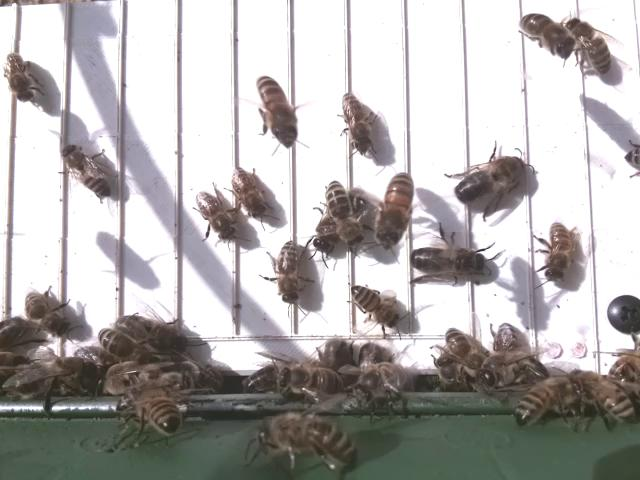Drone: (449, 152, 530, 208), (111, 308, 192, 355), (406, 239, 488, 284)
Worker: (371, 170, 417, 251), (253, 73, 300, 150), (58, 140, 114, 202), (564, 14, 615, 81), (518, 8, 574, 64), (325, 176, 366, 250), (347, 281, 404, 328), (193, 188, 239, 244), (22, 288, 69, 339), (542, 218, 576, 283), (230, 167, 270, 221), (338, 88, 370, 153), (275, 237, 304, 307), (2, 47, 36, 106)
